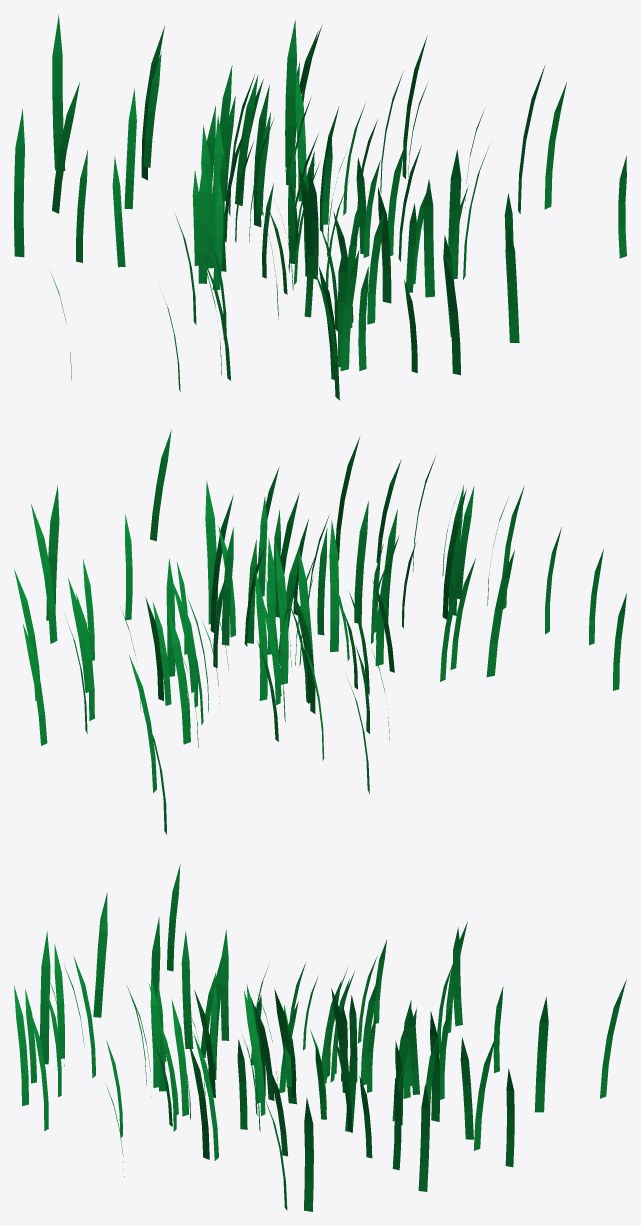
The model's file is Grass.obj.
The picture shows the model from 3 angles, top to bottom: view 1: azimuth 30°, elevation 25°; view 2: azimuth 150°, elevation 25°; view 3: azimuth 270°, elevation 25°; orthographic projection. The views are drawn at different scales.
Visible parts, largest first — view 1: Плоскость.038_Плоскость.253; view 2: Плоскость.038_Плоскость.253; view 3: Плоскость.038_Плоскость.253.
Boxes of the visible parts, x1=… form: Плоскость.038_Плоскость.253: x1=14, y1=14, x2=626, y2=400; Плоскость.038_Плоскость.253: x1=14, y1=430, x2=626, y2=834; Плоскость.038_Плоскость.253: x1=14, y1=864, x2=626, y2=1211.
Bounding box in the file's own units: 1.62 × 0.4488 × 1.73.
